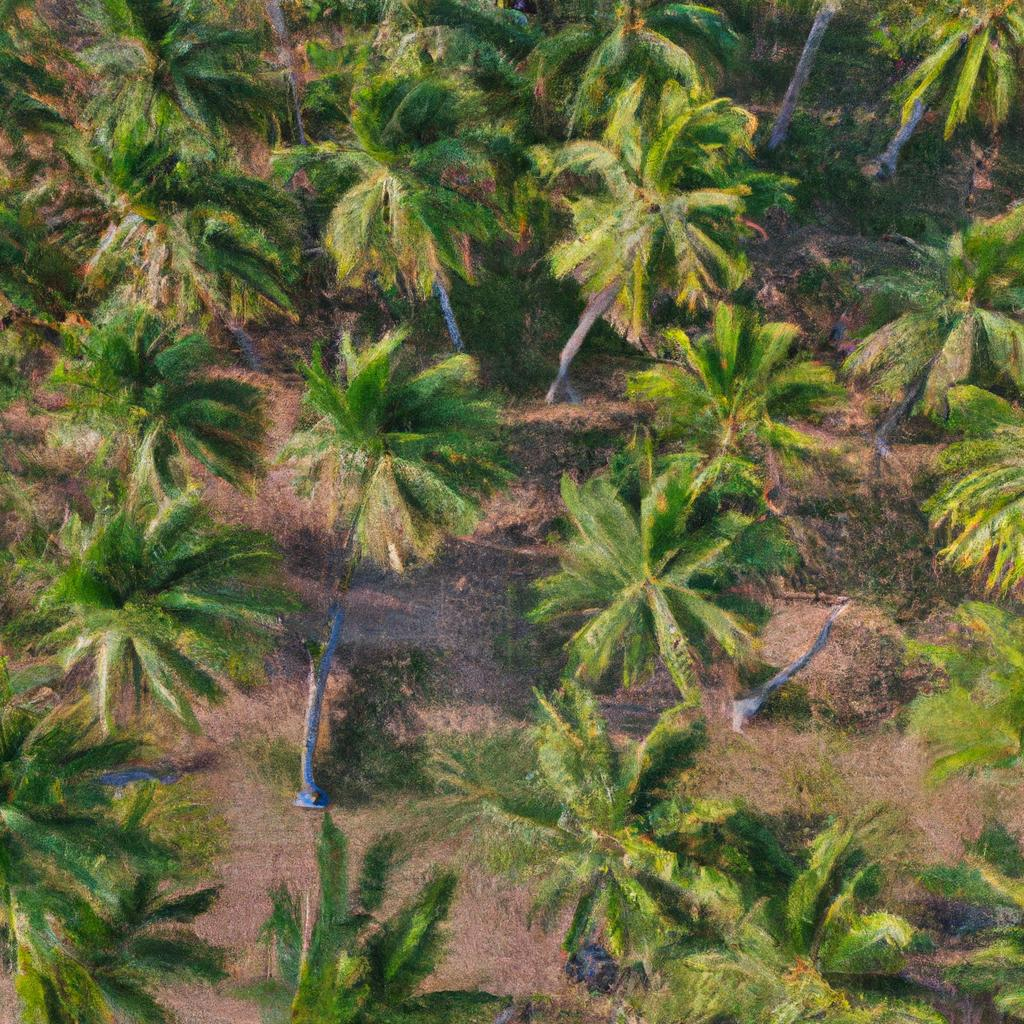coconut_tree: (474, 674, 771, 997), (522, 404, 838, 702), (543, 69, 814, 350), (16, 499, 312, 748), (284, 320, 527, 613), (295, 39, 508, 302)
